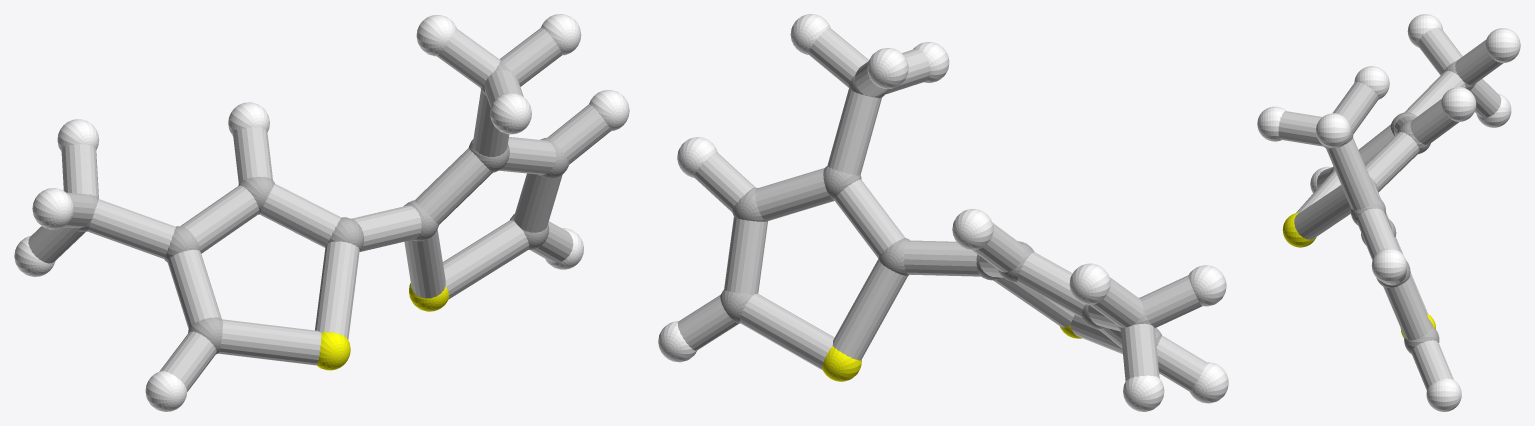
The model's file is Methylthiophene_Phi_25_Theta_250_Methylthiophene.glb.
The picture shows the model from 3 angles, left to right: view 1: azimuth 30°, elevation 25°; view 2: azimuth 150°, elevation 25°; view 3: azimuth 270°, elevation 25°; orthographic projection. The views are drawn at different scales.
Visible parts, largest first — view 1: grp7965, grp3621, grp1, grp7241; view 2: grp7965, grp3621, grp1, grp7241; view 3: grp7965, grp3621, grp1, grp7241.
Boxes of the visible parts, x1=… form: grp7965: x1=28, y1=27, x2=610, y2=391; grp3621: x1=14, y1=14, x2=629, y2=411; grp1: x1=73, y1=61, x2=569, y2=354; grp7241: x1=317, y1=283, x2=449, y2=370; grp7965: x1=677, y1=28, x2=1207, y2=391; grp3621: x1=658, y1=14, x2=1228, y2=411; grp1: x1=720, y1=74, x2=1161, y2=345; grp7241: x1=822, y1=325, x2=1081, y2=381; grp7965: x1=1278, y1=27, x2=1503, y2=390; grp3621: x1=1257, y1=14, x2=1520, y2=411; grp1: x1=1322, y1=61, x2=1475, y2=353; grp7241: x1=1282, y1=212, x2=1435, y2=338.
Bounding box in the file's own units: 9.45 × 5.12 × 4.47.
